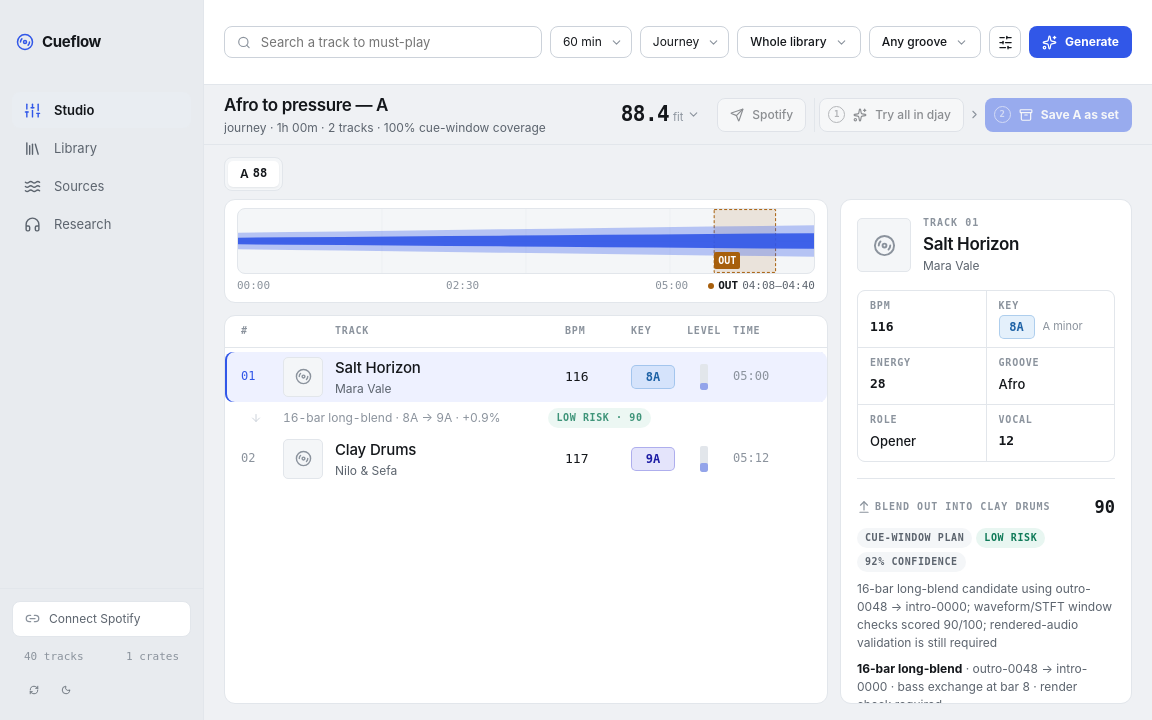
it: Cueflow desk › opens on the studio with the persisted set and its transition evidence
Expected: the heading "Afro to pressure — A" is shown, [224, 95, 388, 115]
Click the button with aria-label "Set quality breakdown": coordinates (661, 114) [612, 98, 709, 132]
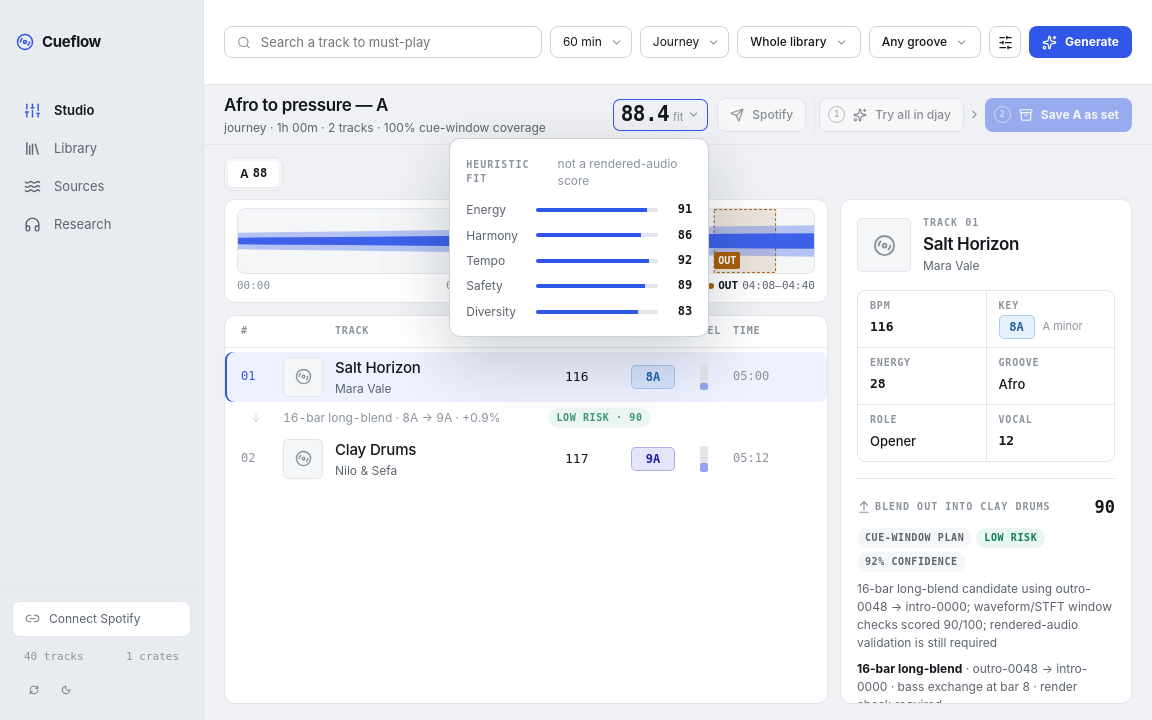
Now the text "Harmony" is shown, box [466, 228, 518, 243]
Press Escape
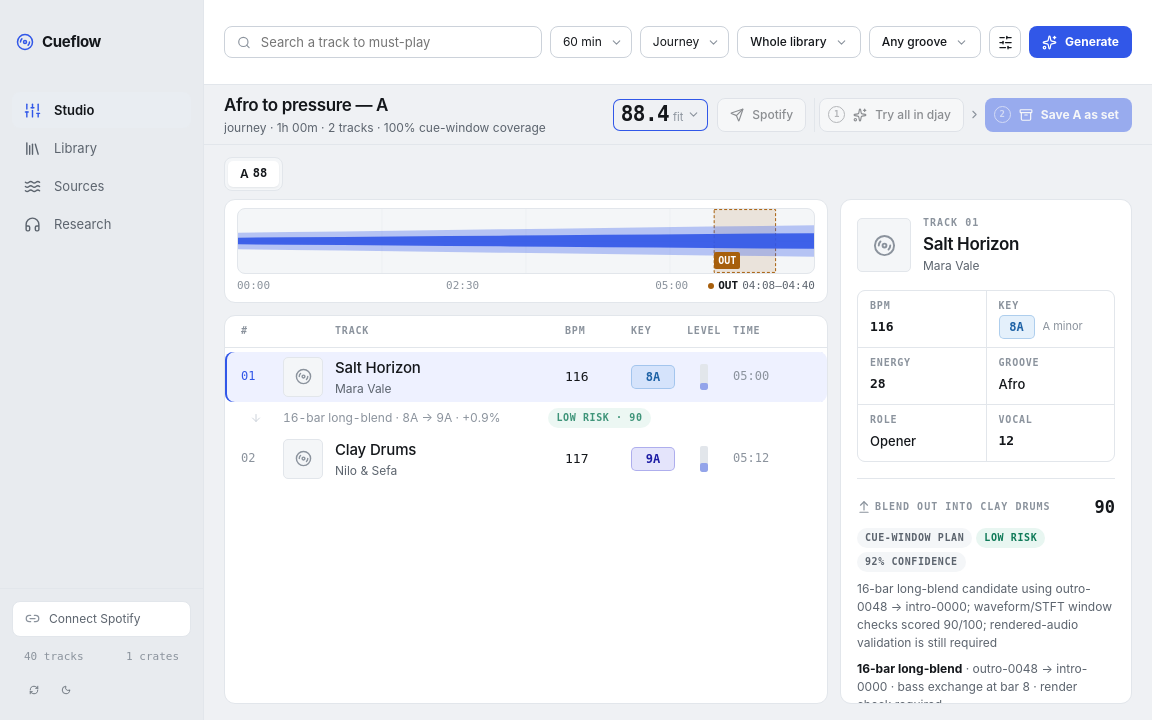
Expected: the picture named "Full-track peak and RMS waveform for Salt Horizon" is shown, [238, 209, 814, 273]
Expected: the element named "Planned cue windows" reads "out 04:08–04:40", [708, 278, 815, 294]
Click the button with aria-label "2. Clay Drums": coordinates (303, 459) [225, 434, 827, 484]
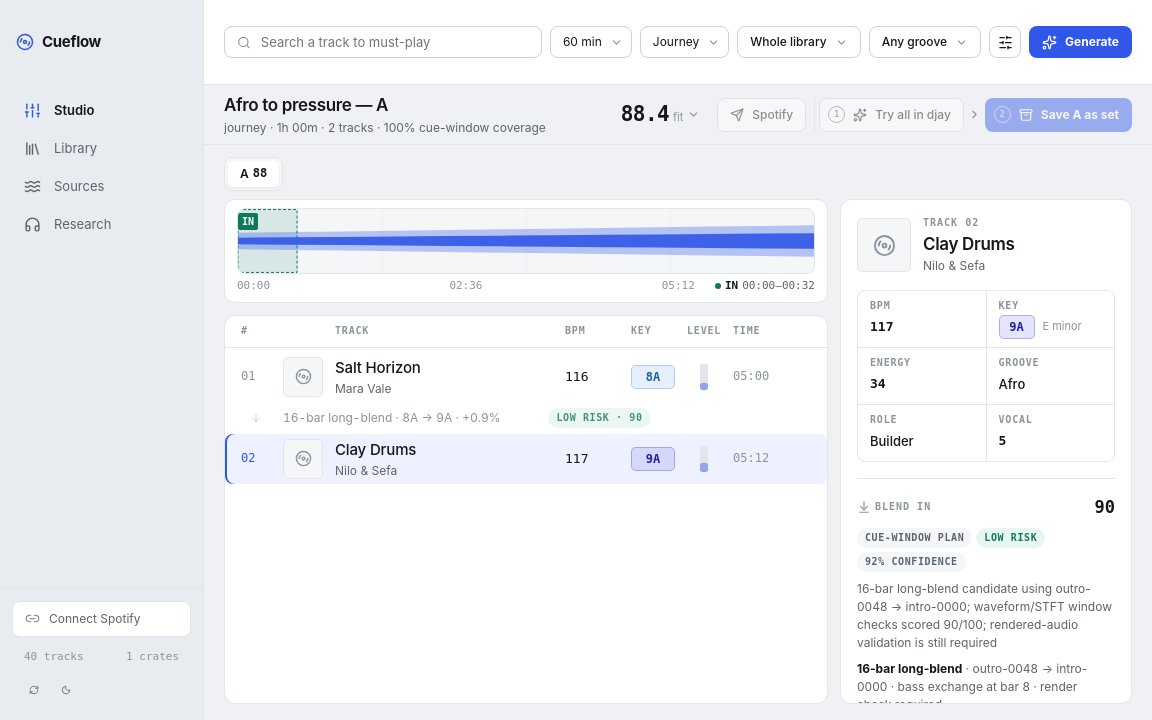
Now the picture named "Full-track peak and RMS waveform for Clay Drums" is shown, box [238, 209, 814, 273]
Now the element named "Planned cue windows" reads "in 00:00–00:32", box [715, 278, 815, 294]
Now the text "Blend in" is shown, box [857, 500, 931, 514]
